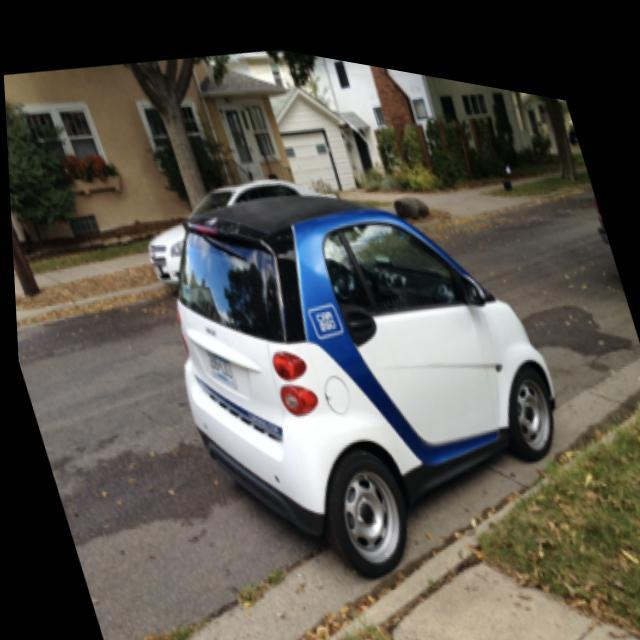license_plate: (195, 332, 236, 391)
